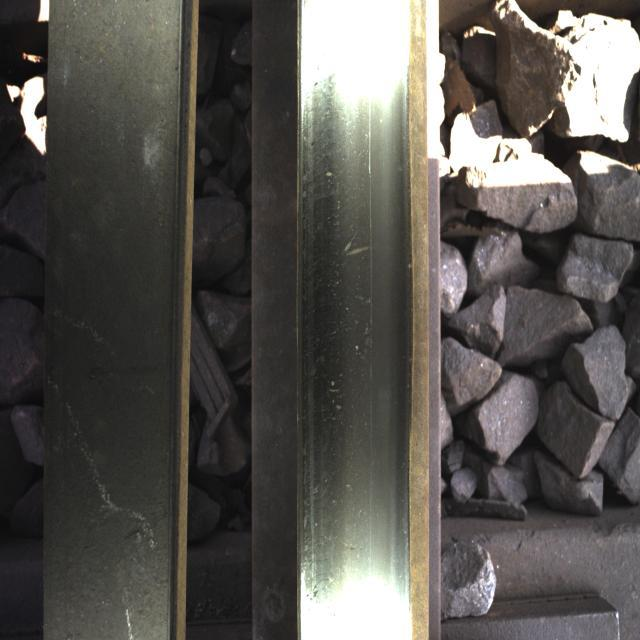normal: (311, 33, 408, 640)
